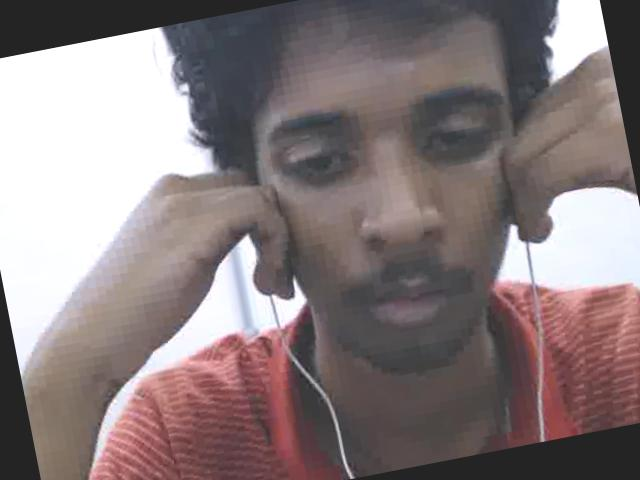bosan: (236, 0, 560, 374)
